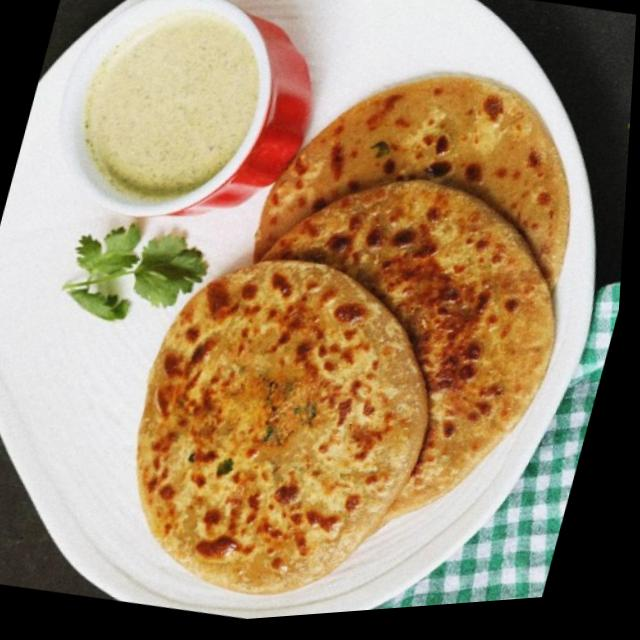KURMA: (87, 15, 263, 199)
PAROTTA: (135, 70, 567, 600)
